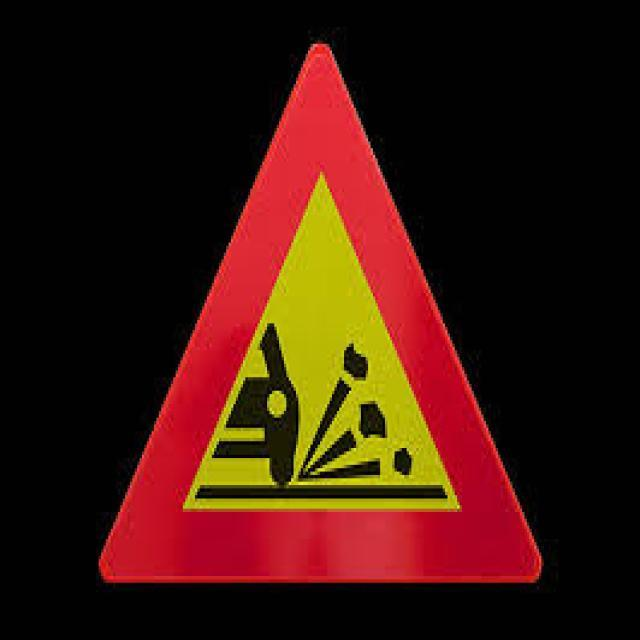loose gravel: (95, 43, 546, 588)
